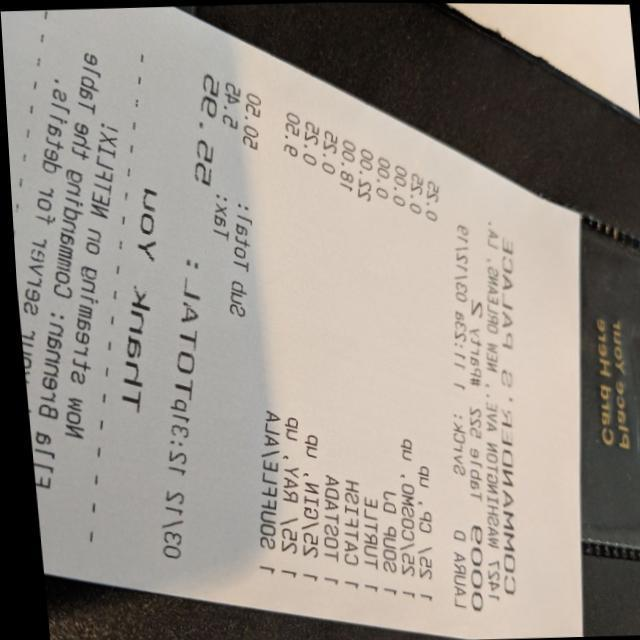Paper: (2, 2, 588, 640)
